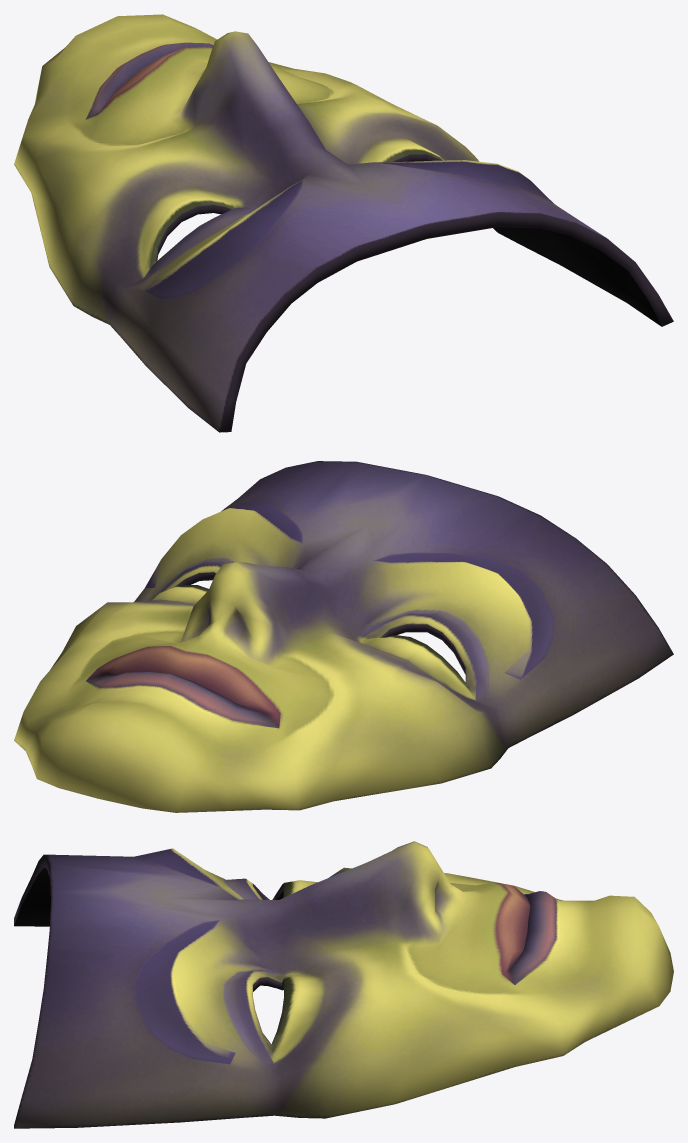
The model's file is anim1_000123.obj.
3 views of the same model, one above another, from view 1: azimuth 30°, elevation 25°; view 2: azimuth 150°, elevation 25°; view 3: azimuth 270°, elevation 25° (orthographic). The views are drawn at different scales.
Parts seen in each view (by area): view 1: 151out; view 2: 151out; view 3: 151out.
Boxes of the visible parts, x1,y1,x2,y2 form: 151out: [14, 14, 673, 432]; 151out: [14, 461, 673, 812]; 151out: [14, 841, 673, 1128].
Bounding box in the file's own units: 4.16 × 1.69 × 5.52.
